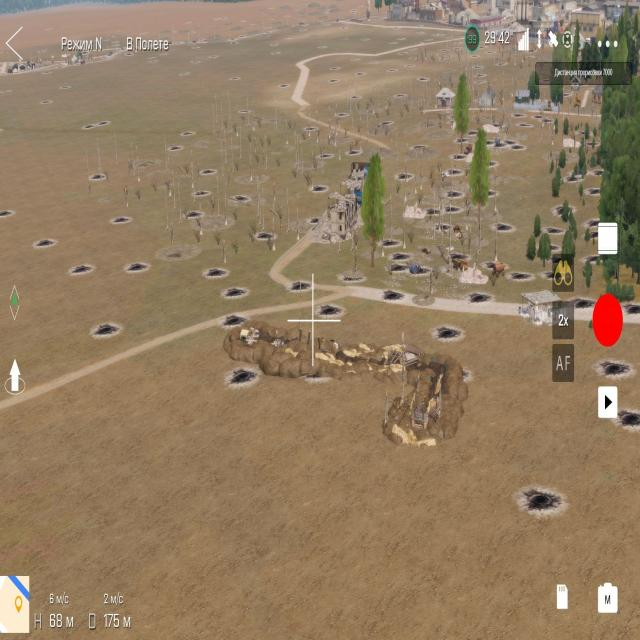fortification: (220, 309, 472, 465), (518, 277, 569, 336), (332, 154, 380, 208), (317, 191, 361, 249), (511, 82, 560, 129), (432, 82, 460, 123), (473, 80, 498, 116)
vehicle: (488, 261, 513, 288), (449, 255, 471, 282), (406, 258, 428, 279)
